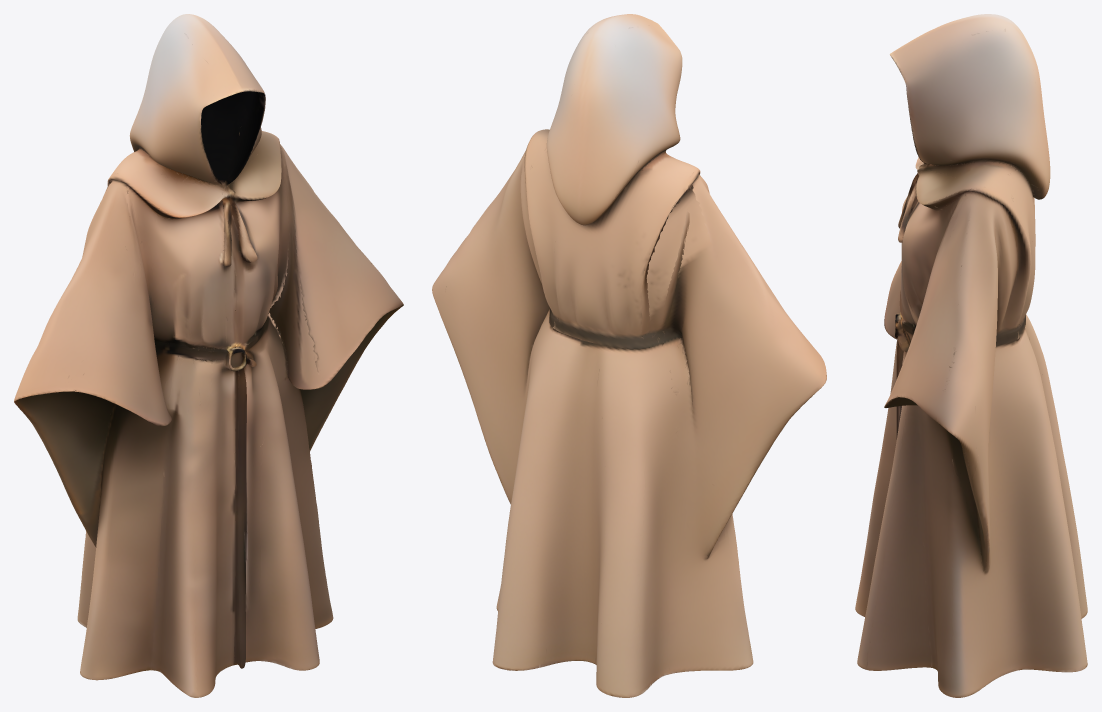
The model's file is base_basic_shaded.fbx.
3 views of the same model, side by side, from view 1: azimuth 30°, elevation 25°; view 2: azimuth 150°, elevation 25°; view 3: azimuth 270°, elevation 25° (orthographic).
Parts seen in each view (by area): view 1: model; view 2: model; view 3: model.
Boxes of the visible parts, x1,y1,x2,y2 form: model: [14, 14, 403, 697]; model: [432, 14, 826, 697]; model: [855, 14, 1087, 697].
Size of the model in its own units: 125 by 190 by 64.38.
